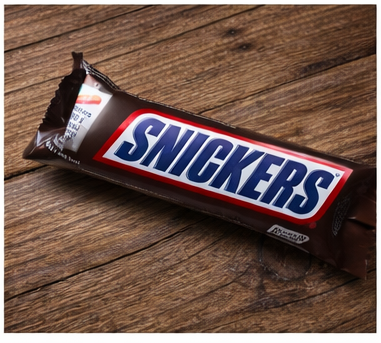SNICKERS: (49, 41, 381, 174)
